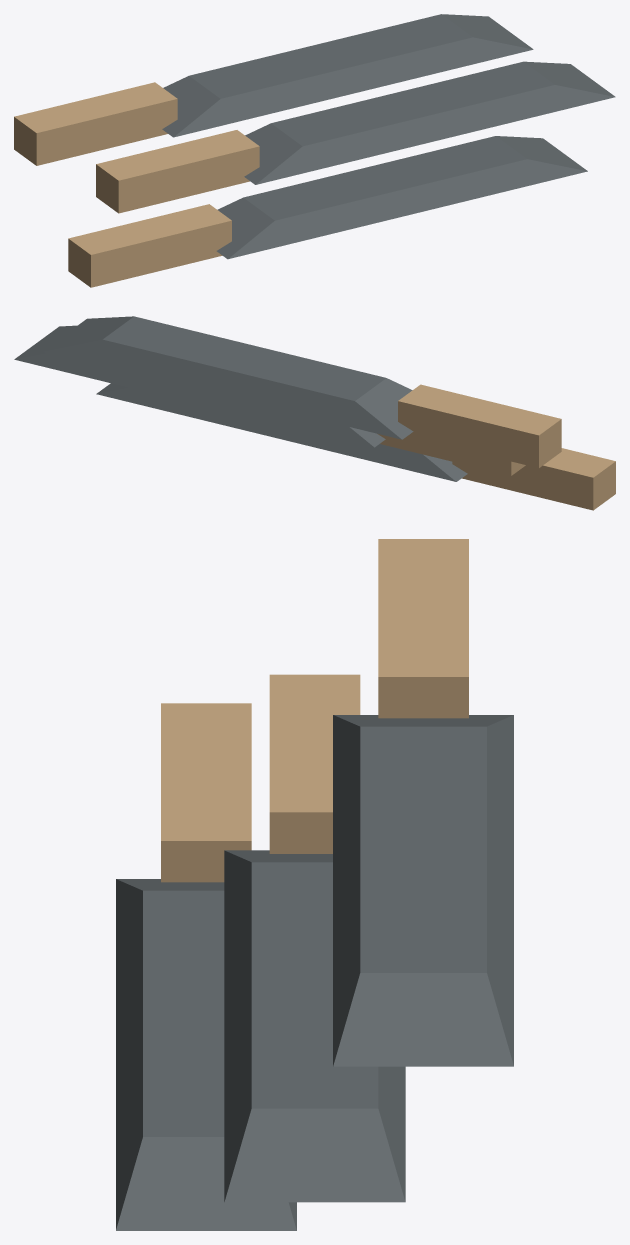
The model's file is item_004_flint_blade_m.glb.
3 views of the same model, one above another, from view 1: azimuth 30°, elevation 25°; view 2: azimuth 150°, elevation 25°; view 3: azimuth 270°, elevation 25° (orthographic). The views are drawn at different scales.
Visible parts, largest first — view 1: item_004_flint_blade_m; view 2: item_004_flint_blade_m; view 3: item_004_flint_blade_m.
Part boxes in pixels (x1,y1,x2,y2): item_004_flint_blade_m: [14, 14, 615, 287]; item_004_flint_blade_m: [14, 316, 615, 510]; item_004_flint_blade_m: [116, 539, 513, 1230].
Bounding box in the file's own units: 0.69 × 0.14 × 0.22.
